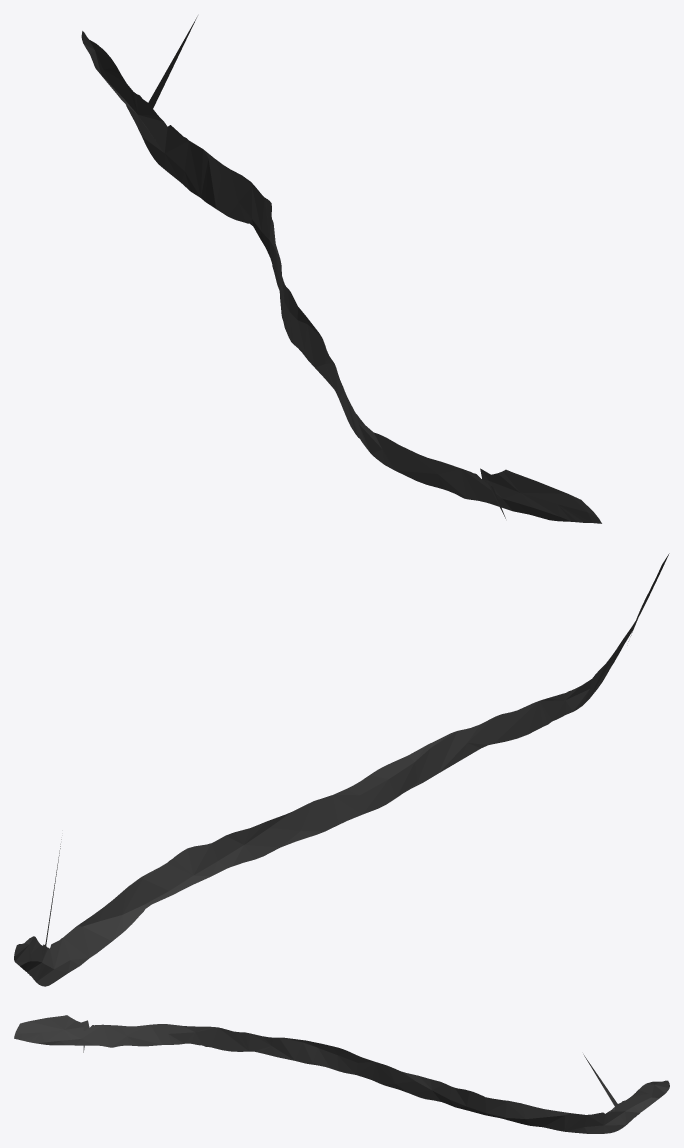
Rendered from nerve_med_palm_dig_dorsal.glb.
3 renders of one model, top to bottom at view 1: azimuth 30°, elevation 25°; view 2: azimuth 150°, elevation 25°; view 3: azimuth 270°, elevation 25°, orthographic. The views are drawn at different scales.
Visible parts, largest first — view 1: nerve_med_palm_dig_dorsal; view 2: nerve_med_palm_dig_dorsal; view 3: nerve_med_palm_dig_dorsal.
Part boxes in pixels (x1=…): nerve_med_palm_dig_dorsal: x1=81, y1=16, x2=601, y2=523; nerve_med_palm_dig_dorsal: x1=14, y1=553, x2=669, y2=986; nerve_med_palm_dig_dorsal: x1=14, y1=1015, x2=669, y2=1133.
Size of the model in its own units: 0.0286 by 0.0198 by 0.1381.
1 material, 1 textured.
